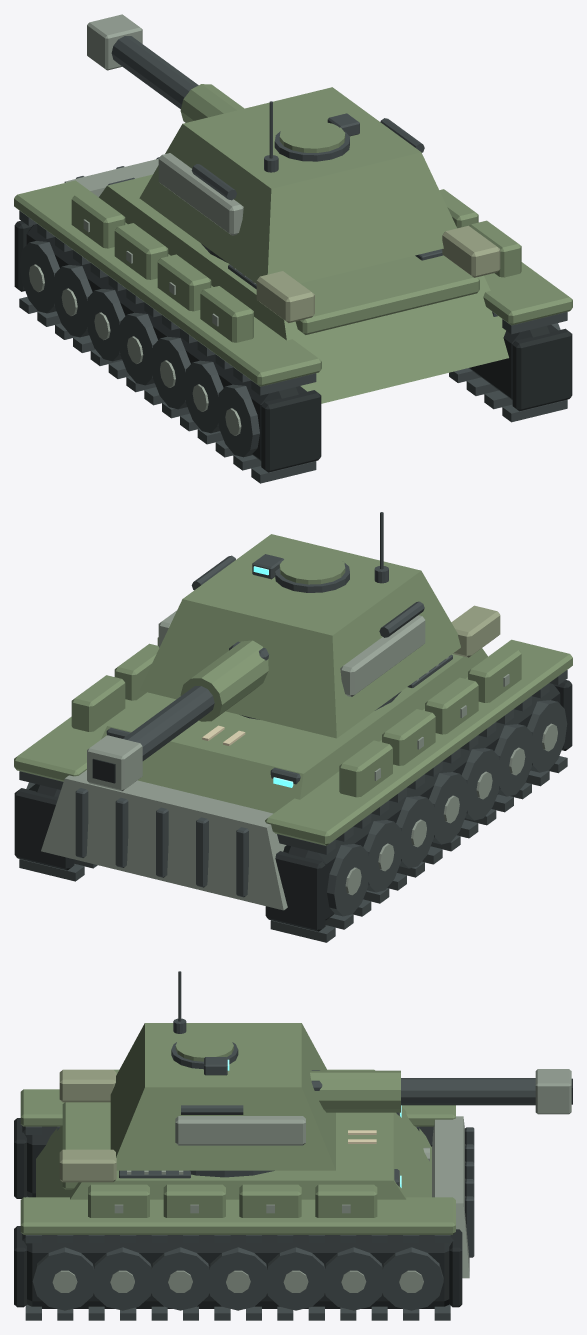
File: tank_mamut_premium.glb
3 renders of one model, top to bottom at view 1: azimuth 30°, elevation 25°; view 2: azimuth 150°, elevation 25°; view 3: azimuth 270°, elevation 25°, orthographic. The views are drawn at different scales.
Parts seen in each view (by area): view 1: tank_mamut_mk2_TankPaint.007, tank_mamut_mk2_TankPaint.008, tank_mamut_mk2_RunningGear.007, tank_mamut_mk2_TankTracks.007, tank_mamut_mk2_RunningGear.008, tank_mamut_mk2_ArmorEdges.008, tank_mamut_mk2_Canvas.001, tank_mamut_mk2_ArmorEdges.007; view 2: tank_mamut_mk2_TankPaint.007, tank_mamut_mk2_TankPaint.008, tank_mamut_mk2_RunningGear.007, tank_mamut_mk2_ArmorEdges.007, tank_mamut_mk2_TankTracks.007, tank_mamut_mk2_RunningGear.008, tank_mamut_mk2_ArmorEdges.008, tank_mamut_mk2_Canvas.001; view 3: tank_mamut_mk2_TankPaint.007, tank_mamut_mk2_TankPaint.008, tank_mamut_mk2_RunningGear.007, tank_mamut_mk2_TankTracks.007, tank_mamut_mk2_ArmorEdges.007, tank_mamut_mk2_RunningGear.008, tank_mamut_mk2_ArmorEdges.008, tank_mamut_mk2_Canvas.001.
Part boxes in pixels (left/top/right/bottom): tank_mamut_mk2_TankPaint.007: left=14, top=174, right=572, bottom=403; tank_mamut_mk2_TankPaint.008: left=139, top=84, right=456, bottom=283; tank_mamut_mk2_RunningGear.007: left=19, top=157, right=567, bottom=483; tank_mamut_mk2_TankTracks.007: left=14, top=220, right=572, bottom=472; tank_mamut_mk2_RunningGear.008: left=111, top=36, right=424, bottom=262; tank_mamut_mk2_ArmorEdges.008: left=87, top=14, right=243, bottom=235; tank_mamut_mk2_Canvas.001: left=256, top=225, right=500, bottom=322; tank_mamut_mk2_ArmorEdges.007: left=29, top=158, right=255, bottom=435; tank_mamut_mk2_TankPaint.007: left=14, top=637, right=572, bottom=845; tank_mamut_mk2_TankPaint.008: left=140, top=534, right=460, bottom=738; tank_mamut_mk2_RunningGear.007: left=19, top=654, right=567, bottom=942; tank_mamut_mk2_ArmorEdges.007: left=41, top=657, right=557, bottom=910; tank_mamut_mk2_TankTracks.007: left=14, top=680, right=572, bottom=931; tank_mamut_mk2_RunningGear.008: left=123, top=512, right=424, bottom=760; tank_mamut_mk2_ArmorEdges.008: left=87, top=610, right=425, bottom=791; tank_mamut_mk2_Canvas.001: left=451, top=605, right=500, bottom=657; tank_mamut_mk2_TankPaint.007: left=20, top=1069, right=455, bottom=1234; tank_mamut_mk2_TankPaint.008: left=110, top=1023, right=400, bottom=1170; tank_mamut_mk2_RunningGear.007: left=25, top=1112, right=474, bottom=1320; tank_mamut_mk2_TankTracks.007: left=14, top=1118, right=462, bottom=1308; tank_mamut_mk2_ArmorEdges.007: left=52, top=1116, right=469, bottom=1292; tank_mamut_mk2_RunningGear.008: left=171, top=971, right=535, bottom=1177; tank_mamut_mk2_ArmorEdges.008: left=175, top=1069, right=571, bottom=1145; tank_mamut_mk2_Canvas.001: left=59, top=1069, right=116, bottom=1182.
Bounding box in the file's own units: 2.62 × 2.3 × 4.5.
